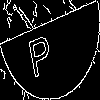P: (25, 25, 54, 79)
